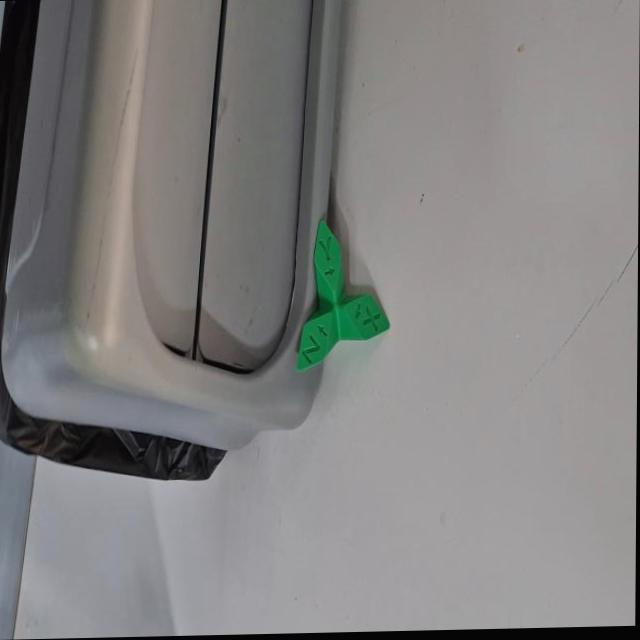eje: (294, 213, 392, 373)
